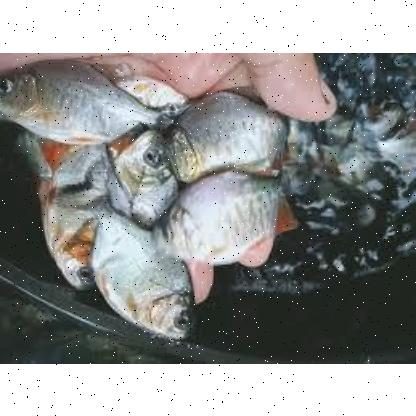ikan-pacu: (87, 214, 195, 344), (0, 56, 160, 140), (157, 171, 293, 257)
